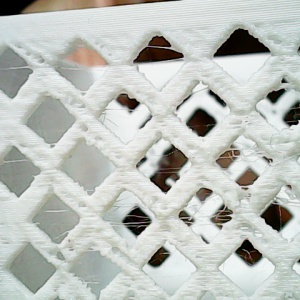3dpstringing: (179, 197, 234, 238), (220, 143, 273, 179), (109, 195, 152, 238), (39, 205, 83, 242), (142, 45, 190, 71), (264, 187, 300, 219), (91, 107, 143, 128), (233, 247, 261, 272), (57, 65, 109, 78), (4, 61, 34, 81), (182, 84, 216, 100), (276, 151, 299, 167), (80, 274, 106, 288), (269, 82, 297, 95), (159, 247, 187, 258)
3dpunderextrusion: (94, 240, 158, 297), (80, 125, 126, 162), (235, 190, 265, 240), (46, 239, 86, 266), (14, 41, 51, 69), (58, 91, 92, 116)
